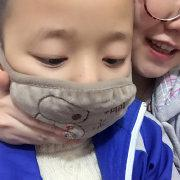NONE: (134, 1, 180, 79)
WRONG: (19, 26, 134, 146)
